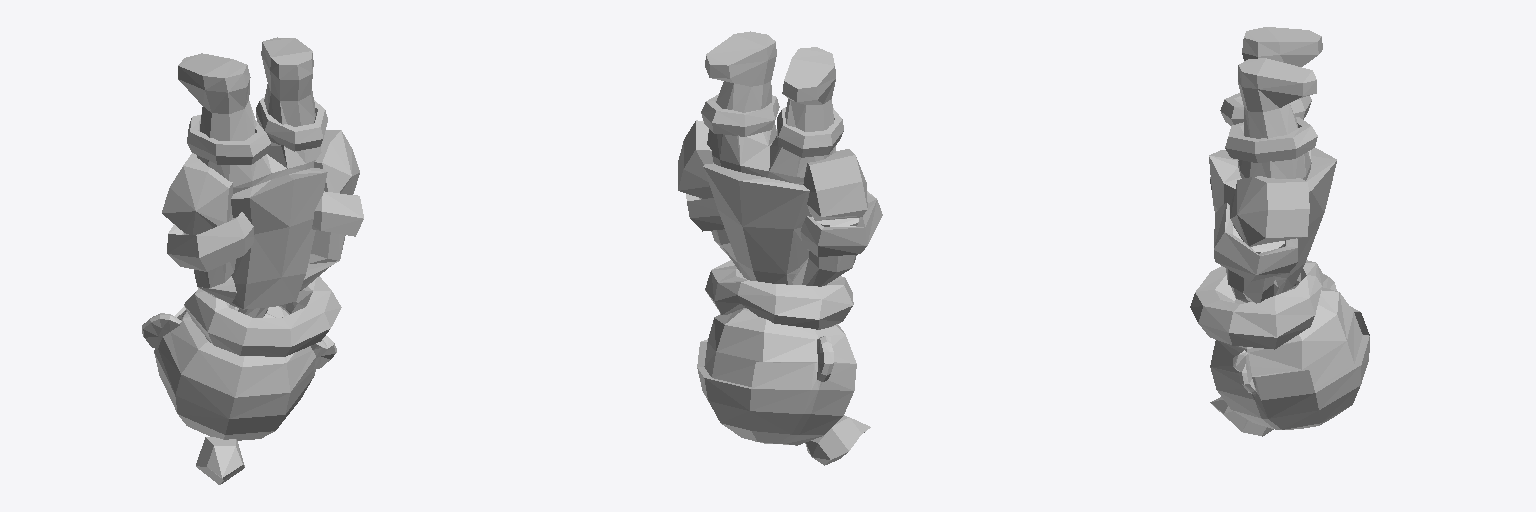
The model's file is eikastanding_000351.obj.
3 views of the same model, side by side, from view 1: azimuth 30°, elevation 25°; view 2: azimuth 150°, elevation 25°; view 3: azimuth 270°, elevation 25° (orthographic).
Visible parts, largest first — view 1: Cylinder; view 2: Cylinder; view 3: Cylinder.
Boxes of the visible parts, x1=… form: Cylinder: x1=142, y1=37, x2=363, y2=484; Cylinder: x1=678, y1=31, x2=882, y2=465; Cylinder: x1=1190, y1=27, x2=1369, y2=436.
Size of the model in its own units: 27.85 by 55.96 by 22.35.